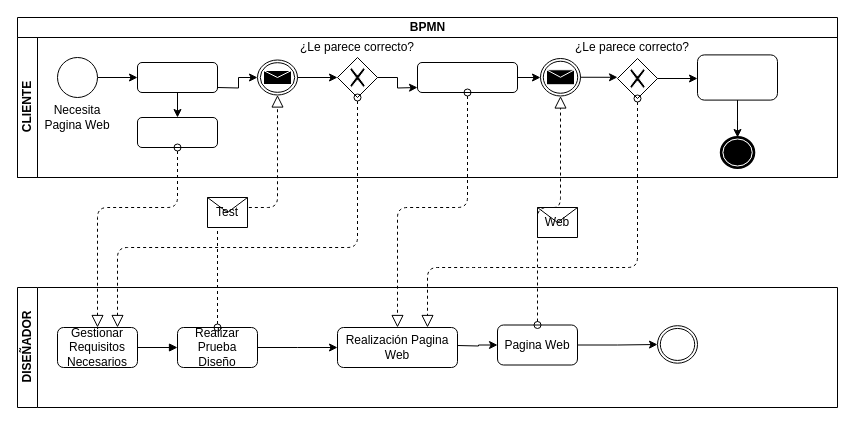
Some shapes in this 855 by 425 pixel diagram are drawn without their labels. The centre of each missing label's shape, as x and y in pixels:
Pedir Web: (177,77)
Pide Realización Web: (467,77)
Se queda con la Pagina Web: (737,77)
Solicitar Requisitos: (177,132)
